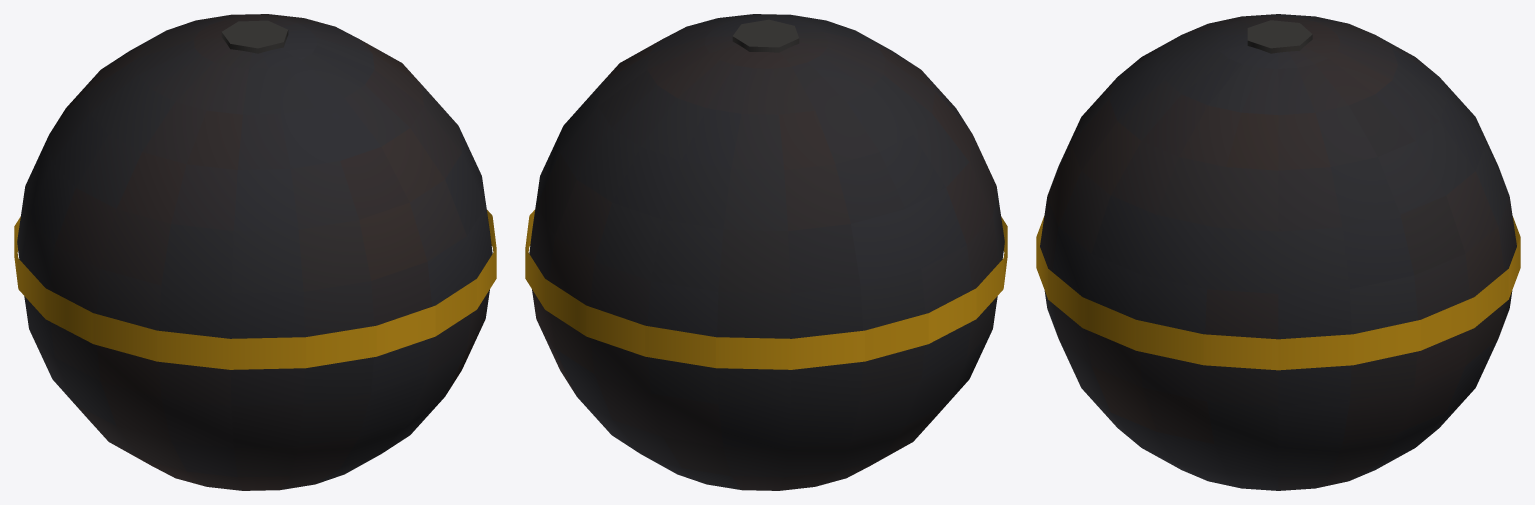
Rendered from ballast_shot.glb.
3 renders of one model, left to right at view 1: azimuth 30°, elevation 25°; view 2: azimuth 150°, elevation 25°; view 3: azimuth 270°, elevation 25°, orthographic.
Parts seen in each view (by area): view 1: Mesh; view 2: Mesh; view 3: Mesh.
Part boxes in pixels (x1,y1,x2,y2): Mesh: [14, 14, 496, 490]; Mesh: [525, 14, 1007, 490]; Mesh: [1036, 14, 1520, 490].
Size of the model in its own units: 0.708 by 0.702 by 0.708.
